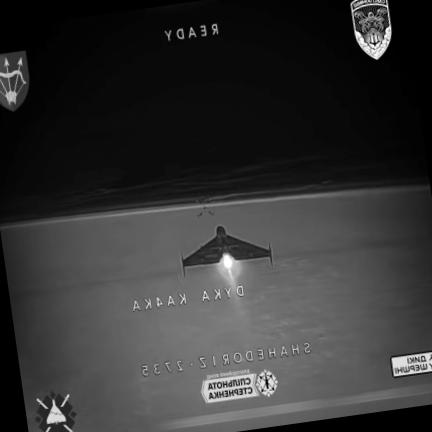Shahed: (180, 225, 272, 275)
